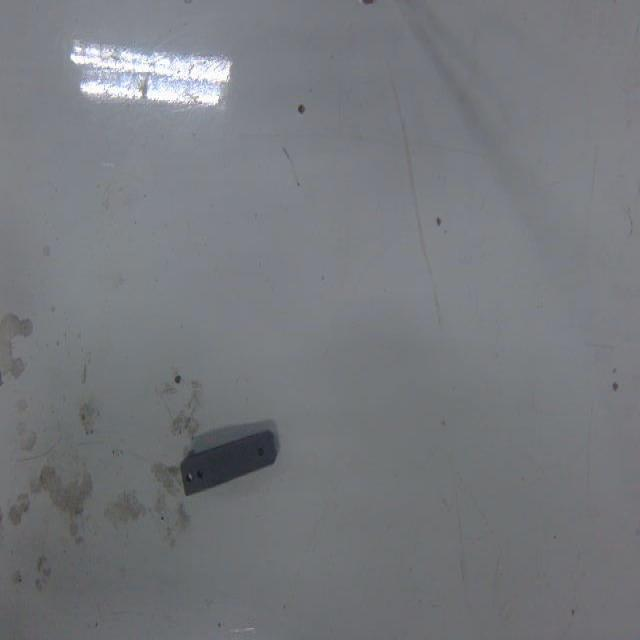grey: (178, 427, 279, 502)
head: (256, 446, 267, 458)
